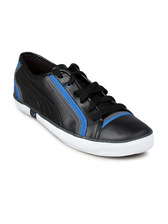shoes: (8, 49, 154, 160)
